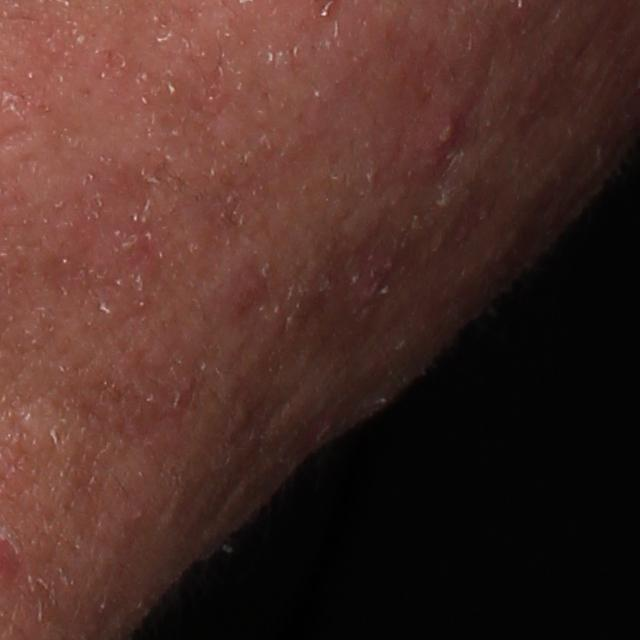papule: (228, 260, 275, 312)
pustule: (424, 115, 461, 167)
